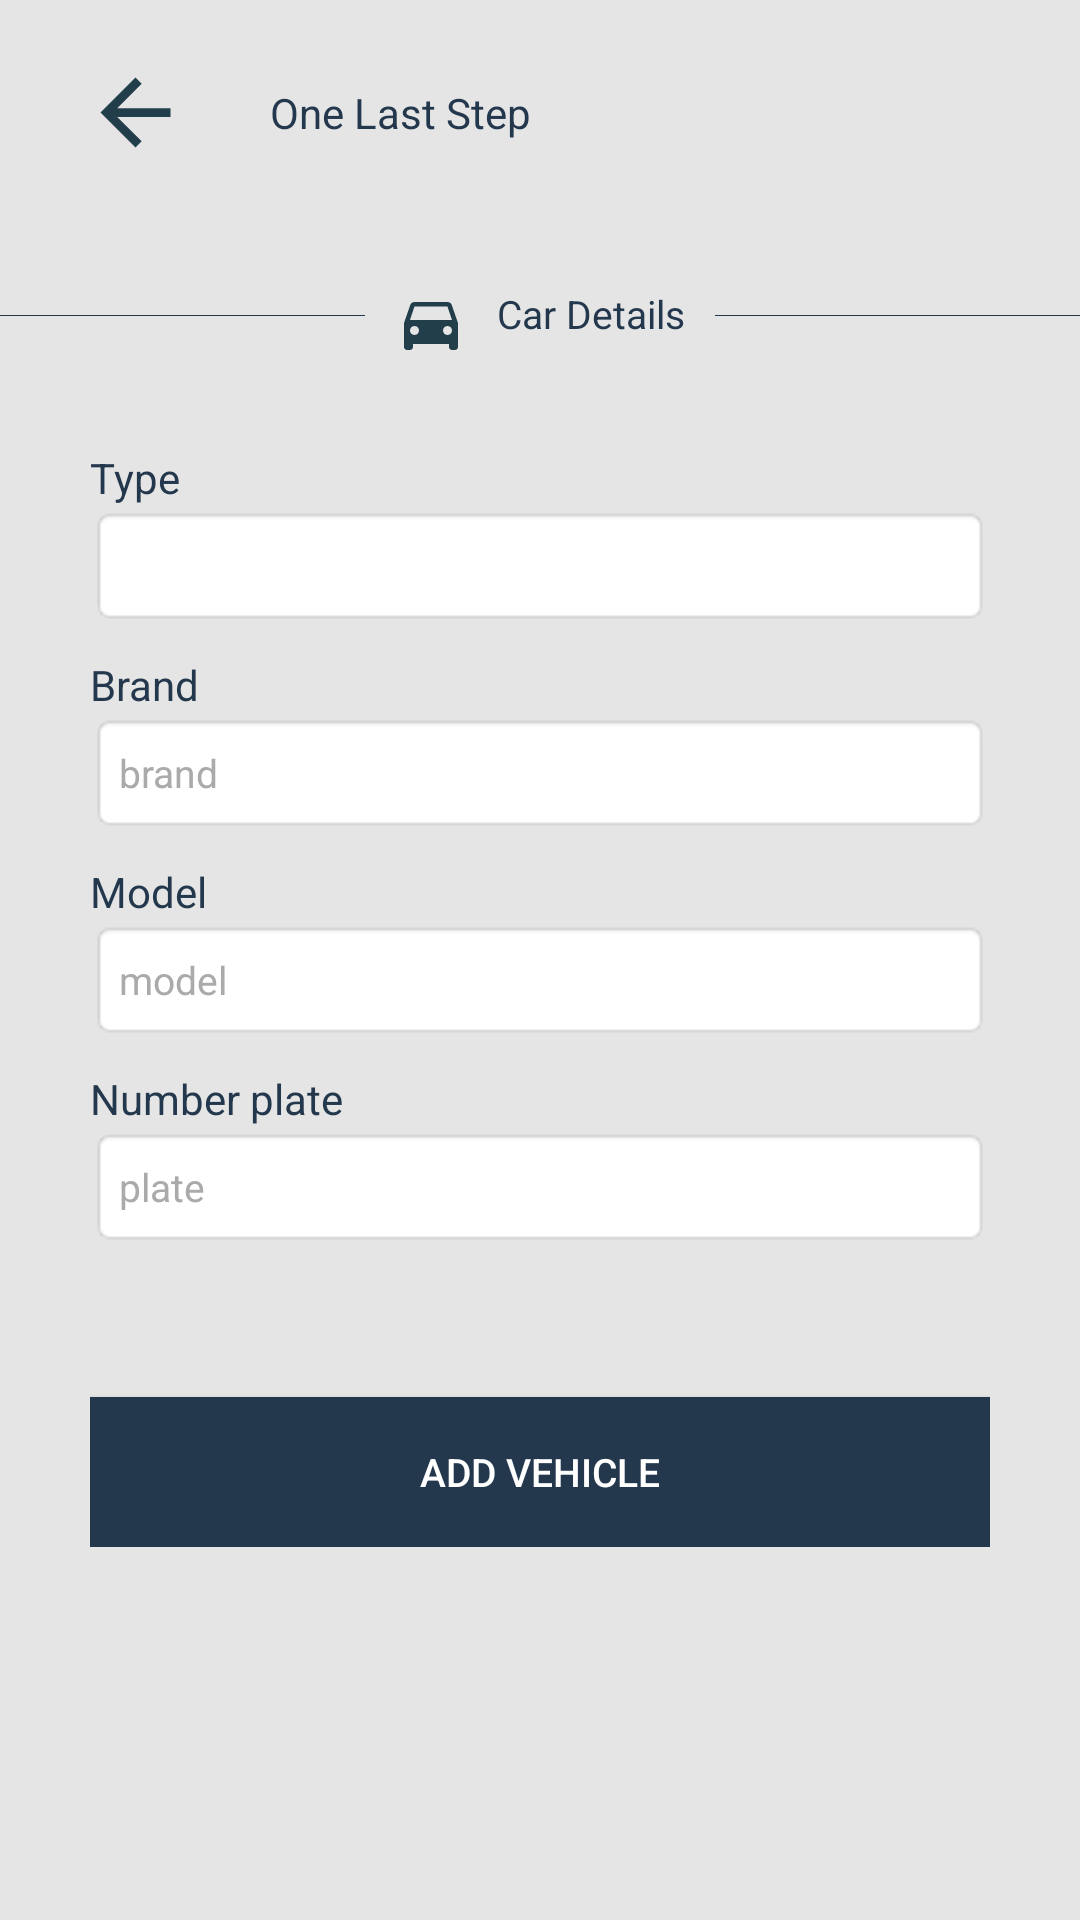

Icons on this 1080×1920 Android screen, each with the point to tap as (x=x, y=y):
back: (x=135, y=112)
